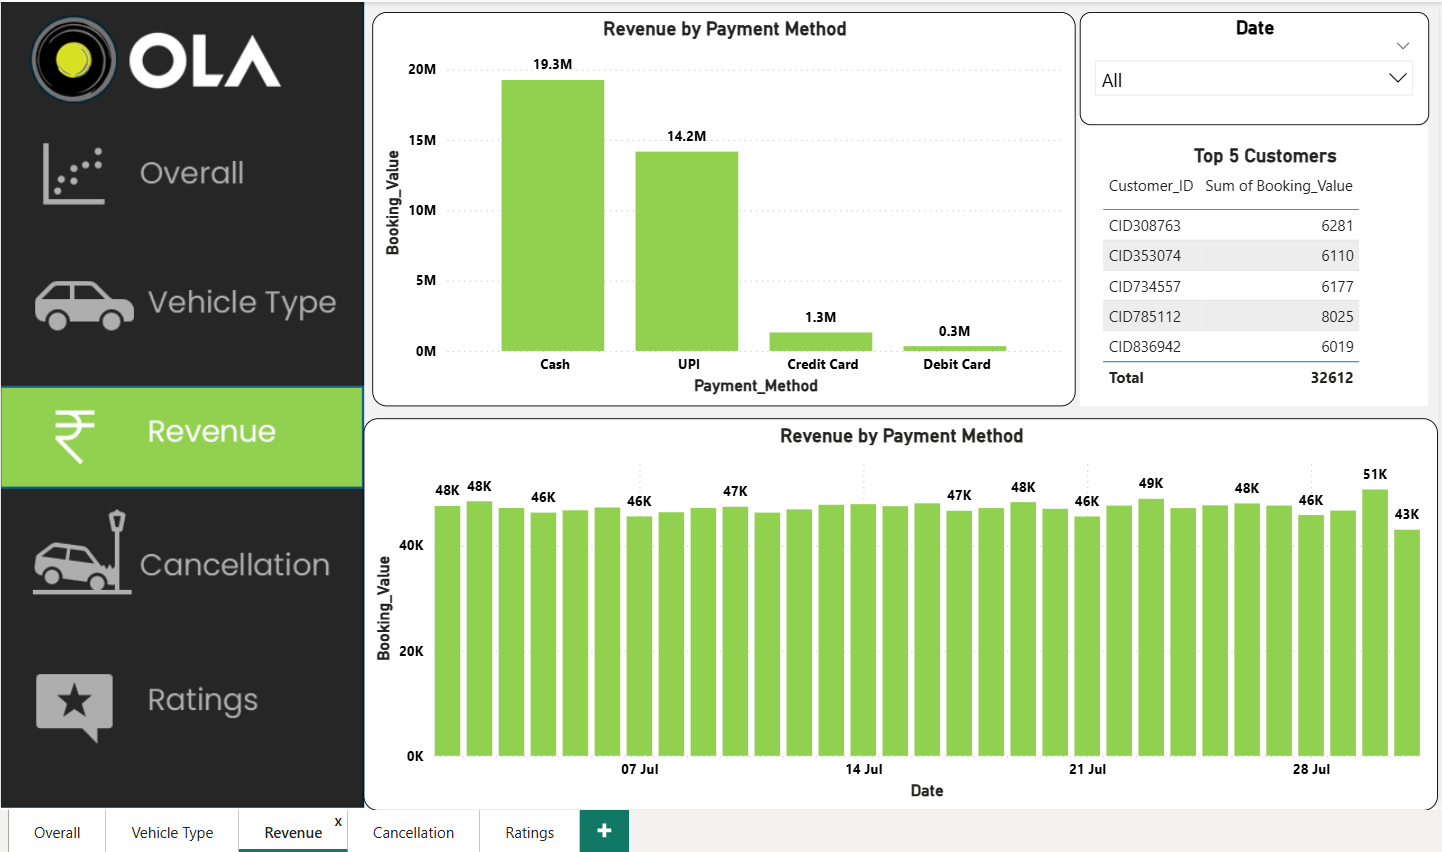

Layout of this report page (visuals, bound fields, positions):
{"tool":"powerbi","page":{"name":"Revenue","canvas":[1280,720],"ordinal":2},"visuals":[{"type":"actionButton","box":[0,445.2,323.3,96.5],"z":0},{"type":"columnChart","title":"Revenue by Payment Method","fields":{"Category":["Bookings.Payment_Method"],"Y":["Sum(Bookings.Booking_Value)"]},"box":[330.4,8.5,626.8,351],"z":1000},{"type":"columnChart","title":"Revenue by Payment Method","fields":{"Y":["Sum(Bookings.Ride_Distance)"],"Category":["Bookings.Date"]},"box":[323.1,370.5,957.1,349.8],"z":2000},{"type":"slicer","title":"Date","fields":{"Values":["Bookings.Date.Variation.Date Hierarchy.Year","Bookings.Date.Variation.Date Hierarchy.Month","Bookings.Date.Variation.Date Hierarchy.Day"]},"box":[960.8,8.5,311,100.8],"z":3000},{"type":"tableEx","title":"Top 5 Customers","fields":{"Values":["Bookings.Customer_ID","Sum(Bookings.Booking_Value)"]},"box":[960.9,109.8,310.7,250],"z":4000}]}

Visuals, with their boxes on the page's 1280x720 design canvas (x1, y1, x2, y2). These are canvas units, not pixel positions in the 1442x852 screenshot, which may show the page scaled, cropped or inside an application window:
actionButton: <region>0, 445, 323, 542</region>
"Revenue by Payment Method" columnChart: <region>330, 8, 957, 360</region>
"Revenue by Payment Method" columnChart: <region>323, 370, 1280, 720</region>
"Date" slicer: <region>961, 8, 1272, 109</region>
"Top 5 Customers" tableEx: <region>961, 110, 1272, 360</region>
